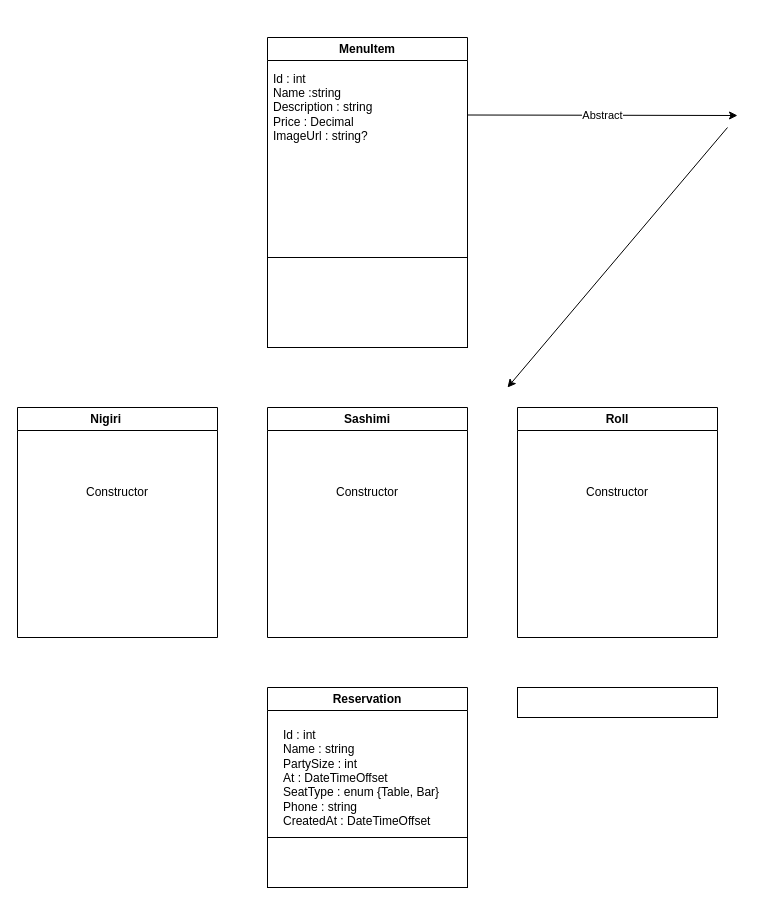
The diagram is 763 pixels wide and 905 high, and some of its shapes have lost their labels. The centre of each missing label's shape, as x and y in pixels:
"+UpdateDetails() +GetDisplayName()" goes at point (367, 302).
"ApplicationUser : IdentityUser" goes at point (617, 702).
"static Create() Update()" goes at point (367, 862).
